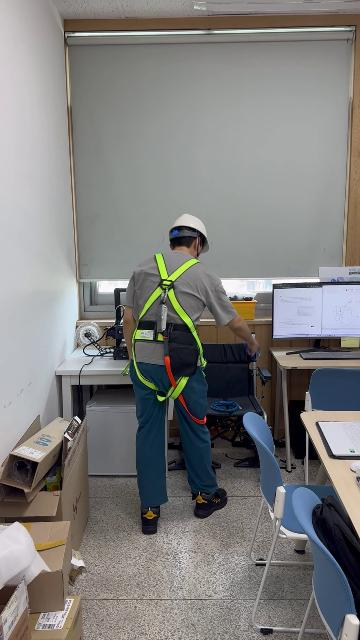helmet_worn: (168, 213, 209, 256)
shoe_worn: (194, 488, 228, 518), (140, 503, 160, 534)
vest_worn: (128, 256, 209, 401)
